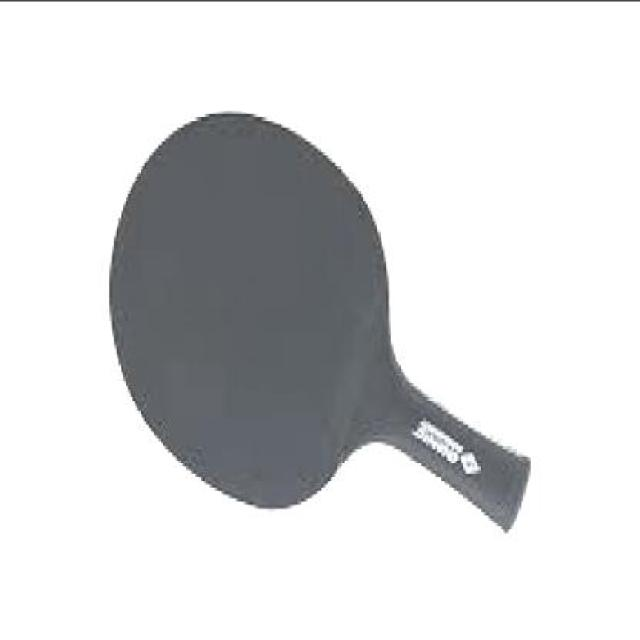table_tennis_racket: (106, 101, 394, 507)
